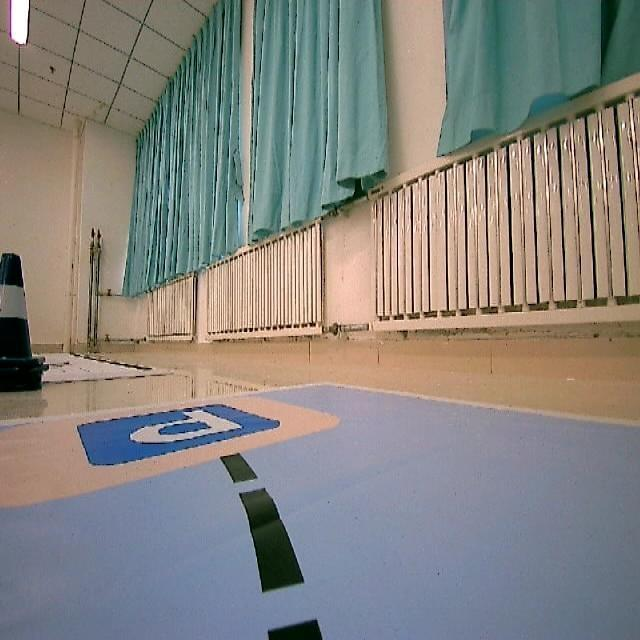obstacle: (0, 255, 46, 403)
